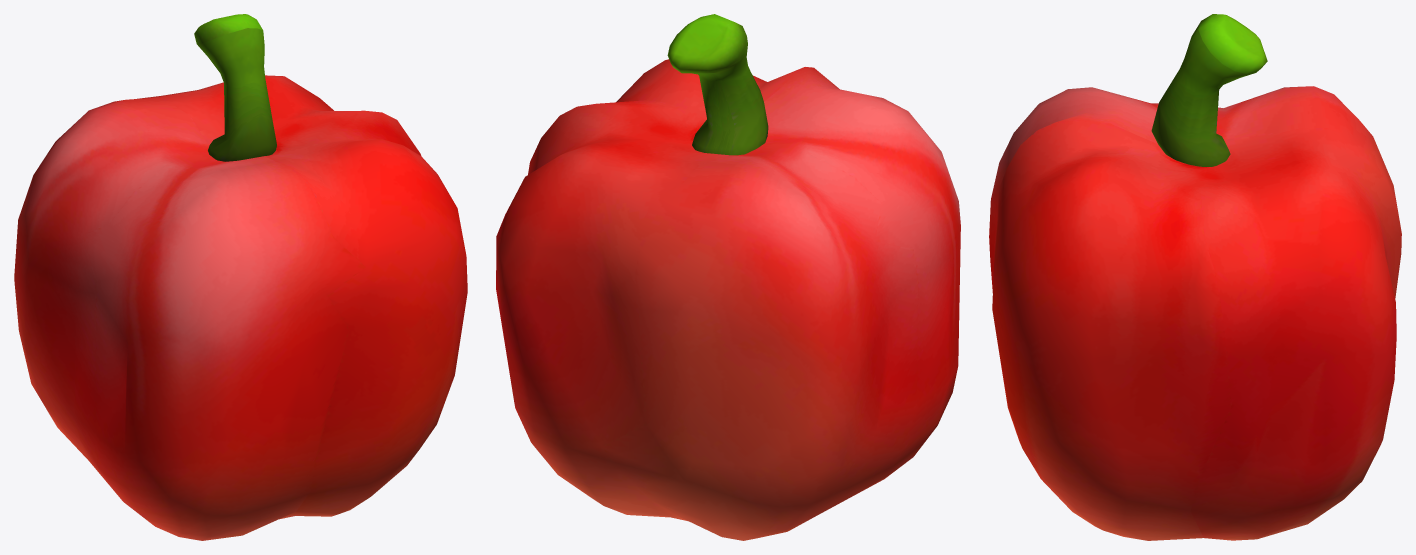
File: PaprikaShort.fbx
The picture shows the model from 3 angles, left to right: view 1: azimuth 30°, elevation 25°; view 2: azimuth 150°, elevation 25°; view 3: azimuth 270°, elevation 25°; orthographic projection. The views are drawn at different scales.
Parts seen in each view (by area): view 1: PaprikaShort; view 2: PaprikaShort; view 3: PaprikaShort.
Part boxes in pixels (bbox=[...]): PaprikaShort: bbox=[14, 14, 467, 540]; PaprikaShort: bbox=[496, 14, 960, 540]; PaprikaShort: bbox=[989, 14, 1401, 540].
Size of the model in its own units: 95.61 by 124 by 93.16.
